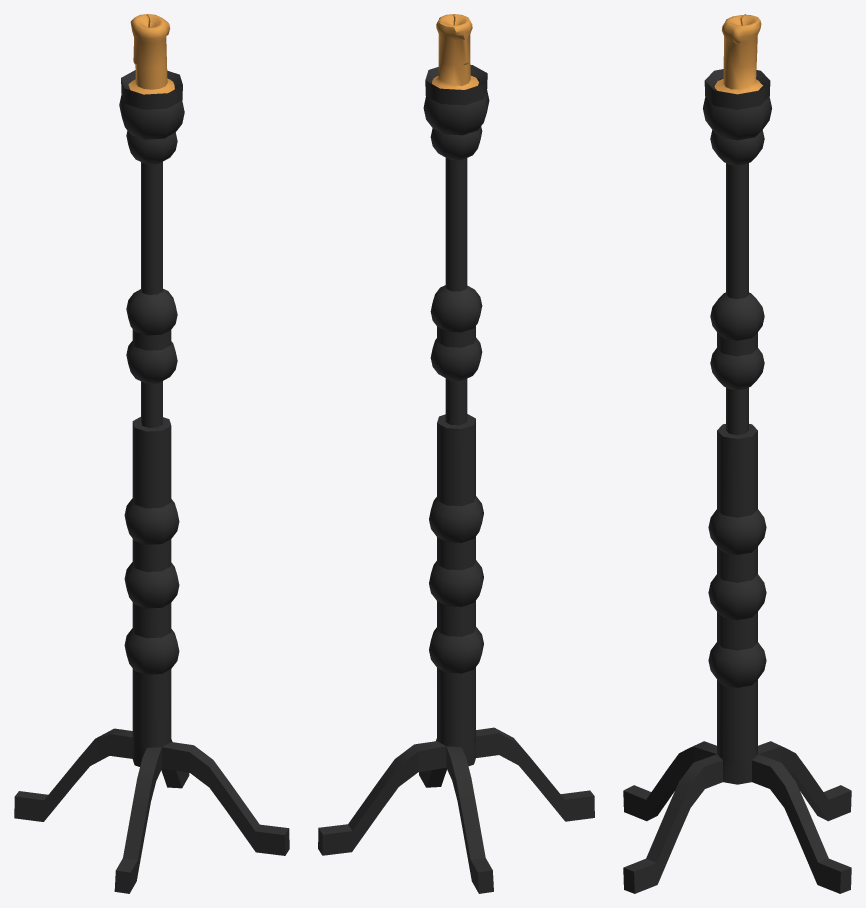
Rendered from decor_candleholder.fbx.
The picture shows the model from 3 angles, left to right: view 1: azimuth 30°, elevation 25°; view 2: azimuth 150°, elevation 25°; view 3: azimuth 270°, elevation 25°; orthographic projection. The views are drawn at different scales.
Visible parts, largest first — view 1: decor_candleholder; view 2: decor_candleholder; view 3: decor_candleholder.
Part boxes in pixels (x1,y1,x2,y2): decor_candleholder: [14, 14, 289, 893]; decor_candleholder: [318, 14, 594, 893]; decor_candleholder: [623, 14, 851, 893].
Size of the model in its own units: 35.61 by 159 by 39.34.
